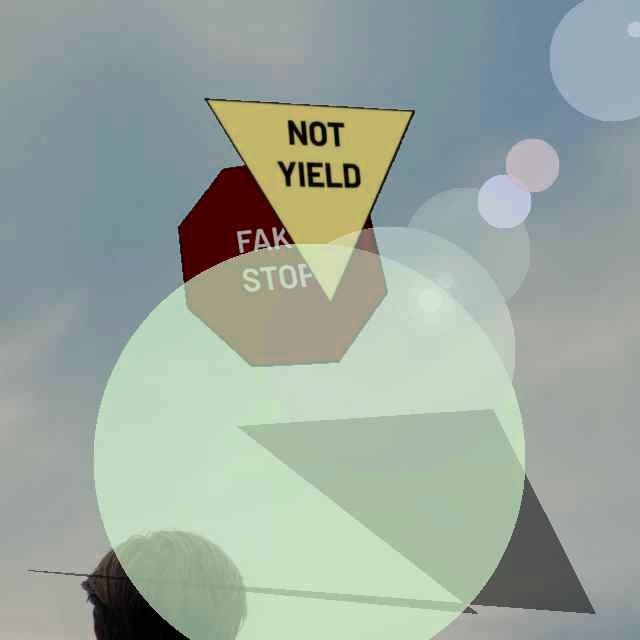FAKE_STOP: (177, 158, 388, 367)
NOT_YIELD: (204, 98, 415, 305)
